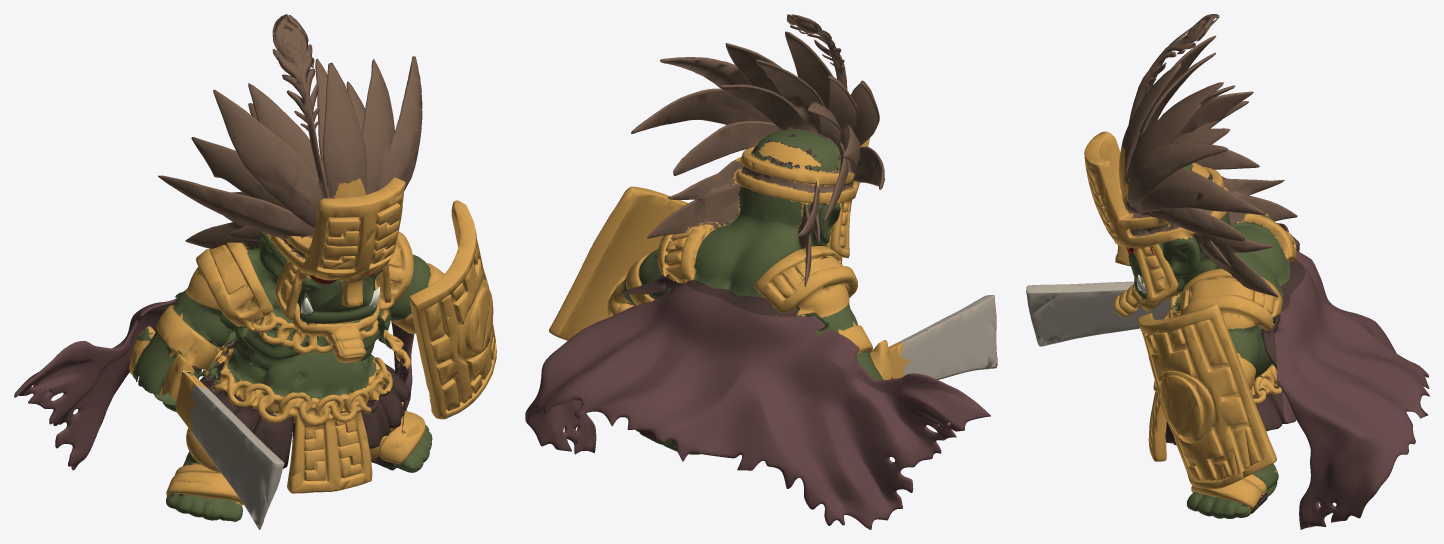
File: kingOrc.glb
3 views of the same model, side by side, from view 1: azimuth 30°, elevation 25°; view 2: azimuth 150°, elevation 25°; view 3: azimuth 270°, elevation 25° (orthographic). The views are drawn at different scales.
Parts seen in each view (by area): view 1: head, torso, armR, weapon, armL, legL, legR; view 2: torso, head, armR, weapon, armL; view 3: head, torso, armR, weapon, legR.
Part boxes in pixels (box(x1,y1,x2,y2)): head: box(158, 14, 422, 327); torso: box(14, 231, 414, 493); armR: box(342, 200, 496, 419); weapon: box(169, 371, 284, 529); armL: box(129, 290, 257, 395); legL: box(154, 387, 292, 521); legR: box(369, 402, 432, 472); torso: box(525, 222, 990, 529); head: box(631, 14, 884, 316); armR: box(549, 186, 688, 340); weapon: box(888, 295, 997, 379); armL: box(796, 293, 892, 380); head: box(1084, 14, 1305, 312); torso: box(1113, 222, 1429, 529); armR: box(1138, 304, 1277, 488); weapon: box(1026, 281, 1171, 346); legR: box(1187, 388, 1278, 518).
Size of the model in its own units: 3.27 by 3.19 by 2.63.
